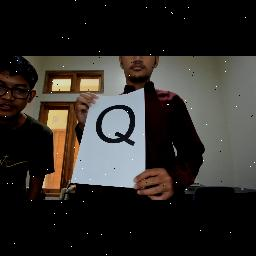q: (90, 101, 144, 157)
